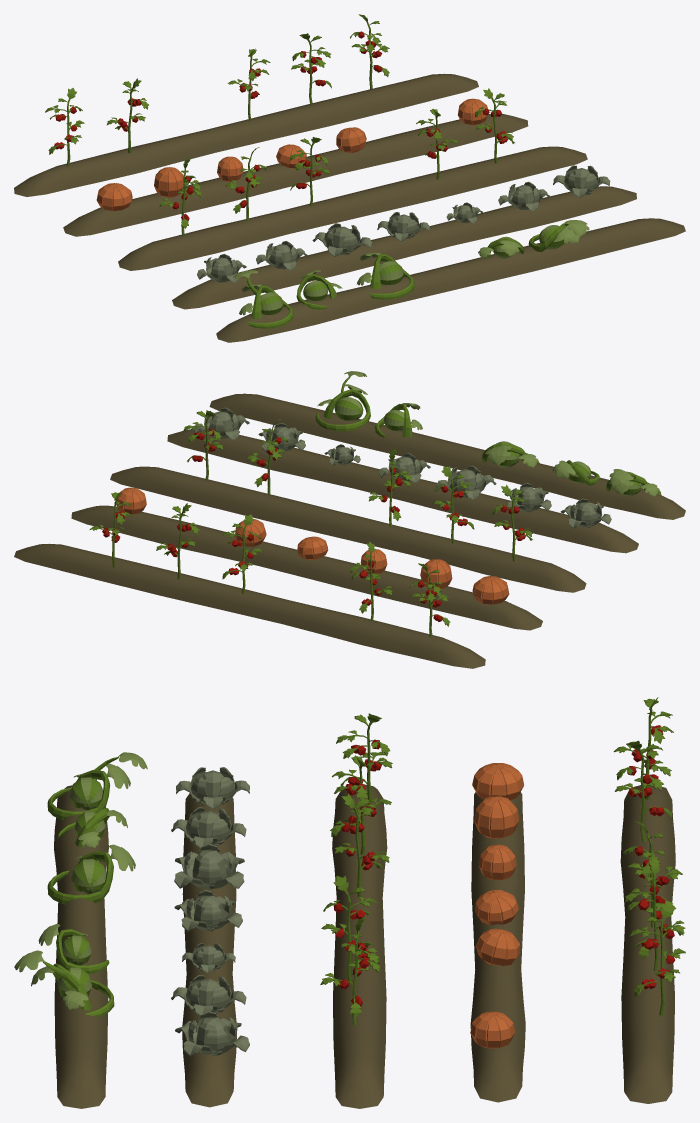
The model's file is Crops.glb.
3 renders of one model, top to bottom at view 1: azimuth 30°, elevation 25°; view 2: azimuth 150°, elevation 25°; view 3: azimuth 270°, elevation 25°, orthographic. The views are drawn at different scales.
Visible parts, largest first — view 1: Farm_Dirt_Level3; view 2: Farm_Dirt_Level3; view 3: Farm_Dirt_Level3.
Part boxes in pixels (x1,y1,x2,y2): Farm_Dirt_Level3: [14, 14, 685, 342]; Farm_Dirt_Level3: [14, 371, 685, 668]; Farm_Dirt_Level3: [14, 697, 685, 1108].
Bounding box in the file's own units: 1.79 × 0.3227 × 1.56.
